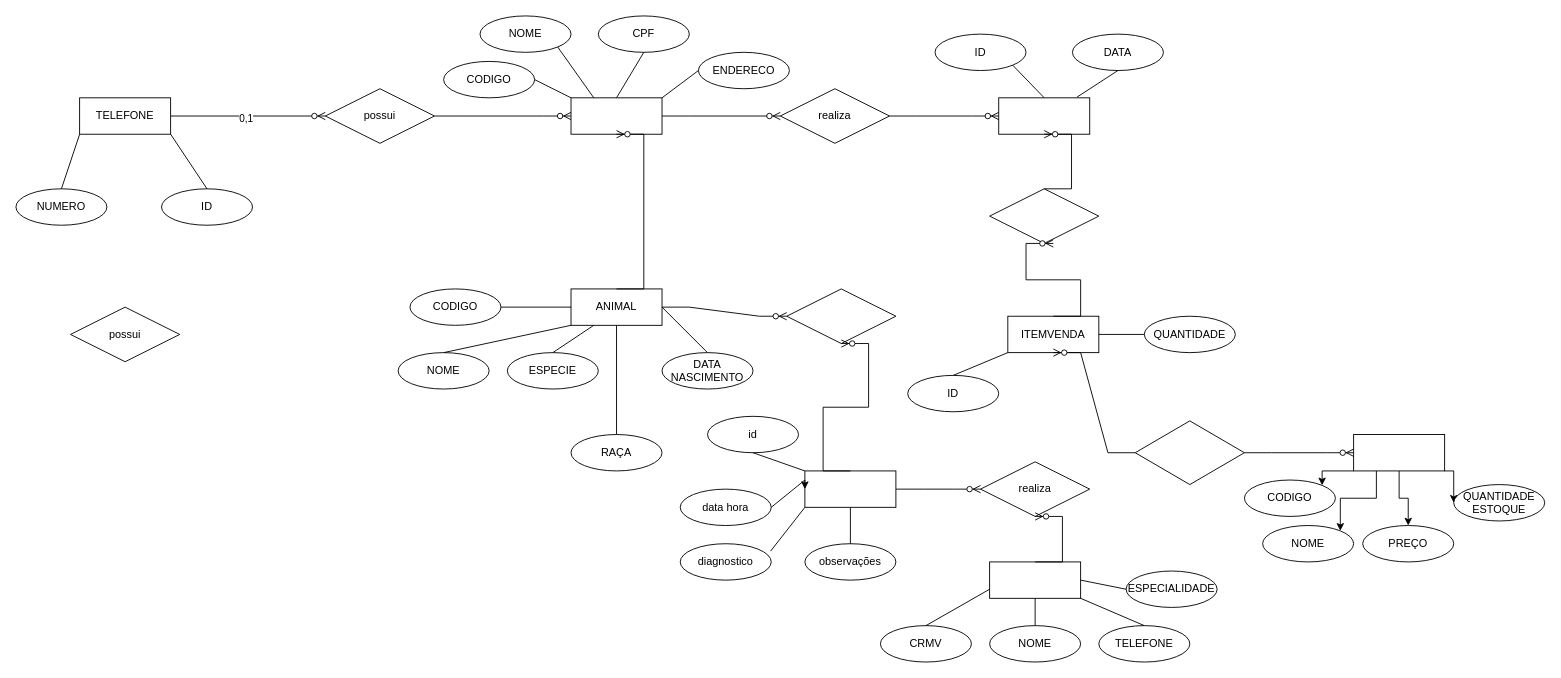
Some shapes in this 1561 by 678 pixel diagram are drawn without their labels. Each missing label, with the centre of its shape:
"ATENDIMENTO" belongs at [850,488].
"CLIENTE" belongs at [616,115].
"CONTÉM" belongs at [1044,215].
"PRODUTO" belongs at [1399,452].
"recebe" belongs at [841,316].
"VENDA" belongs at [1044,115].
"VENDIDO EM" belongs at [1189,452].
"VETERINÁRIO" belongs at [1035,579].
